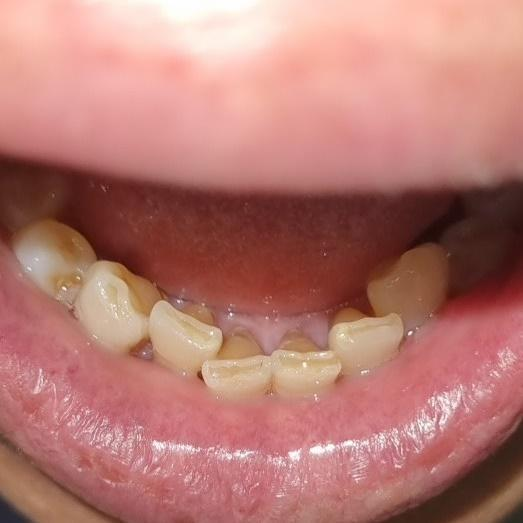Crowding: (326, 227, 451, 367), (151, 292, 270, 393)
